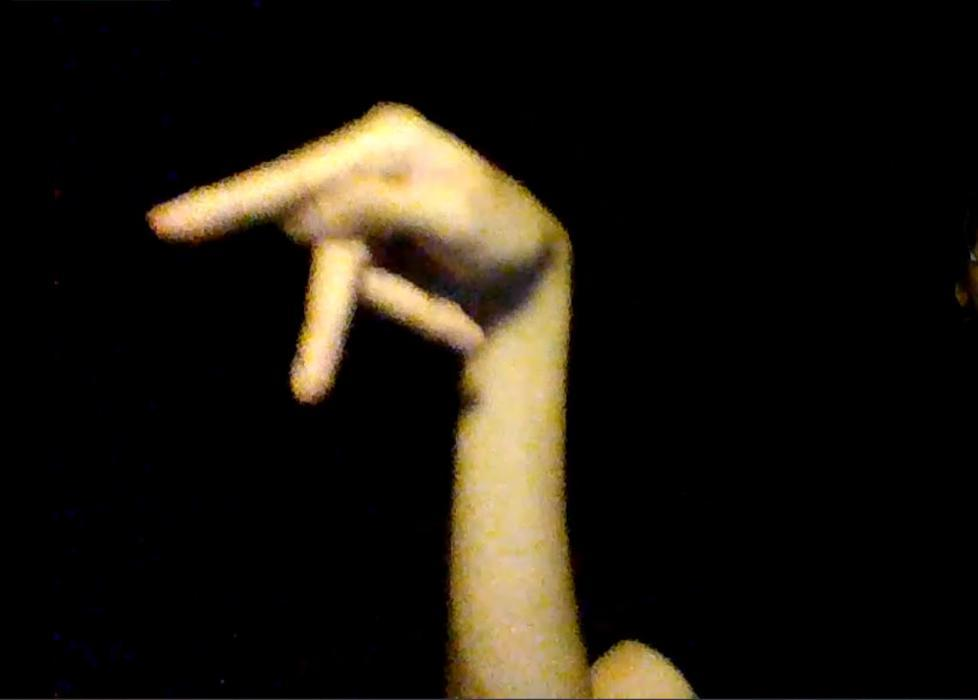p: (147, 96, 576, 407)
